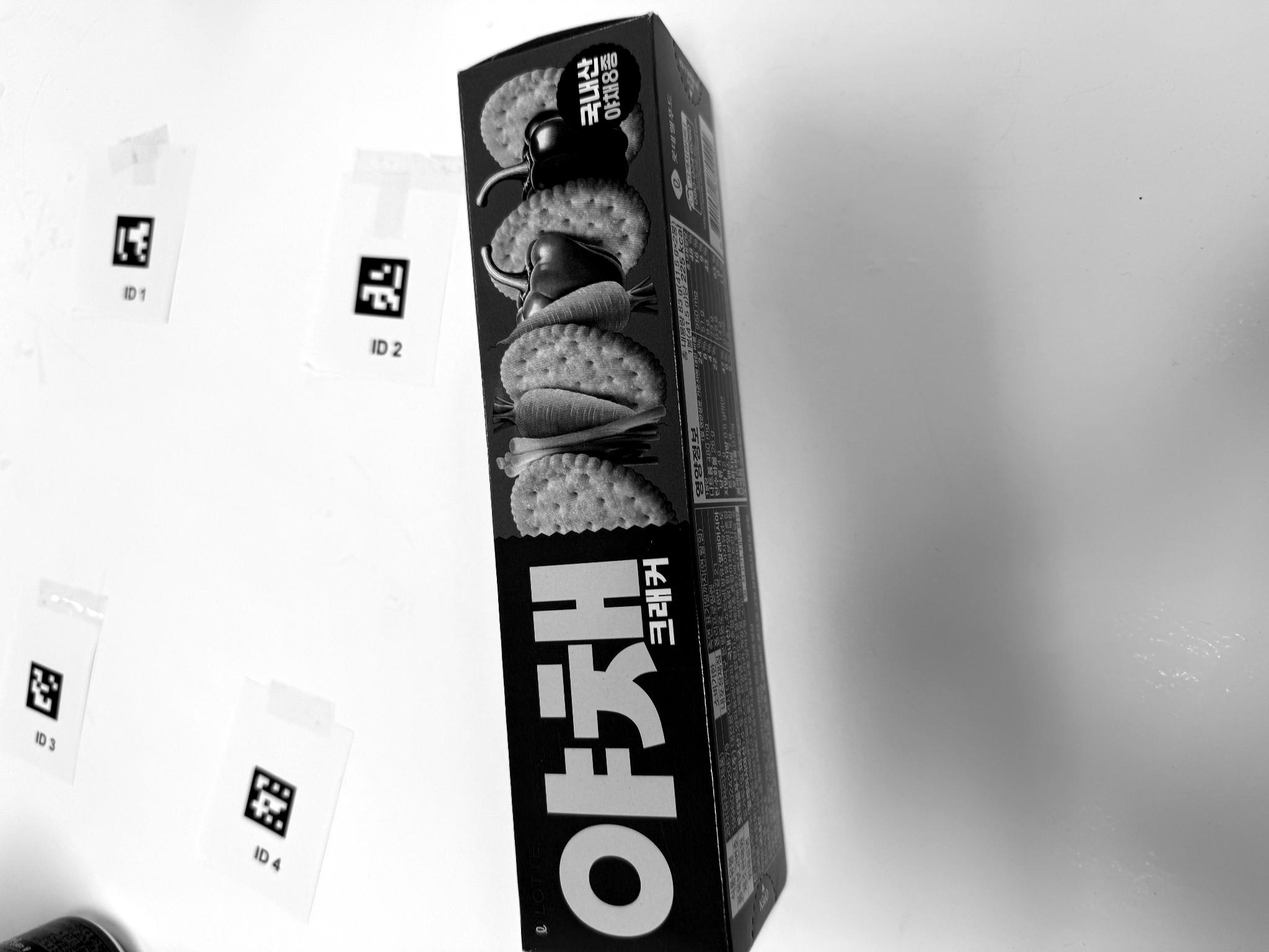cracker_vege: (459, 14, 786, 952)
